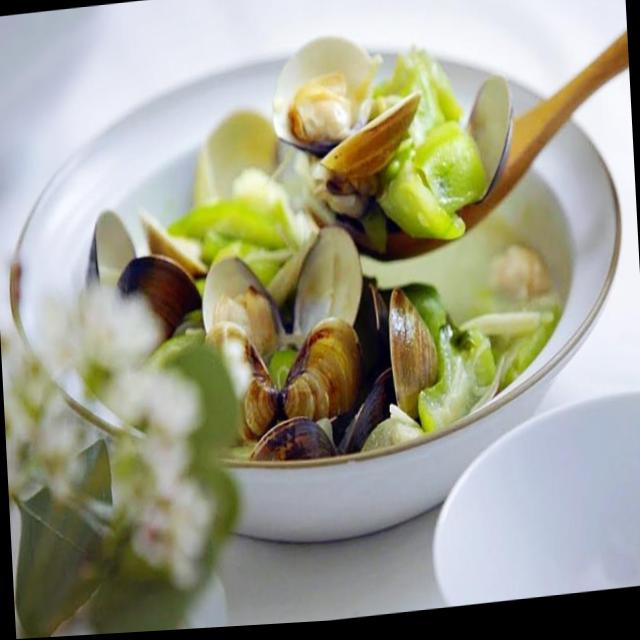Wet: (90, 28, 503, 475)
